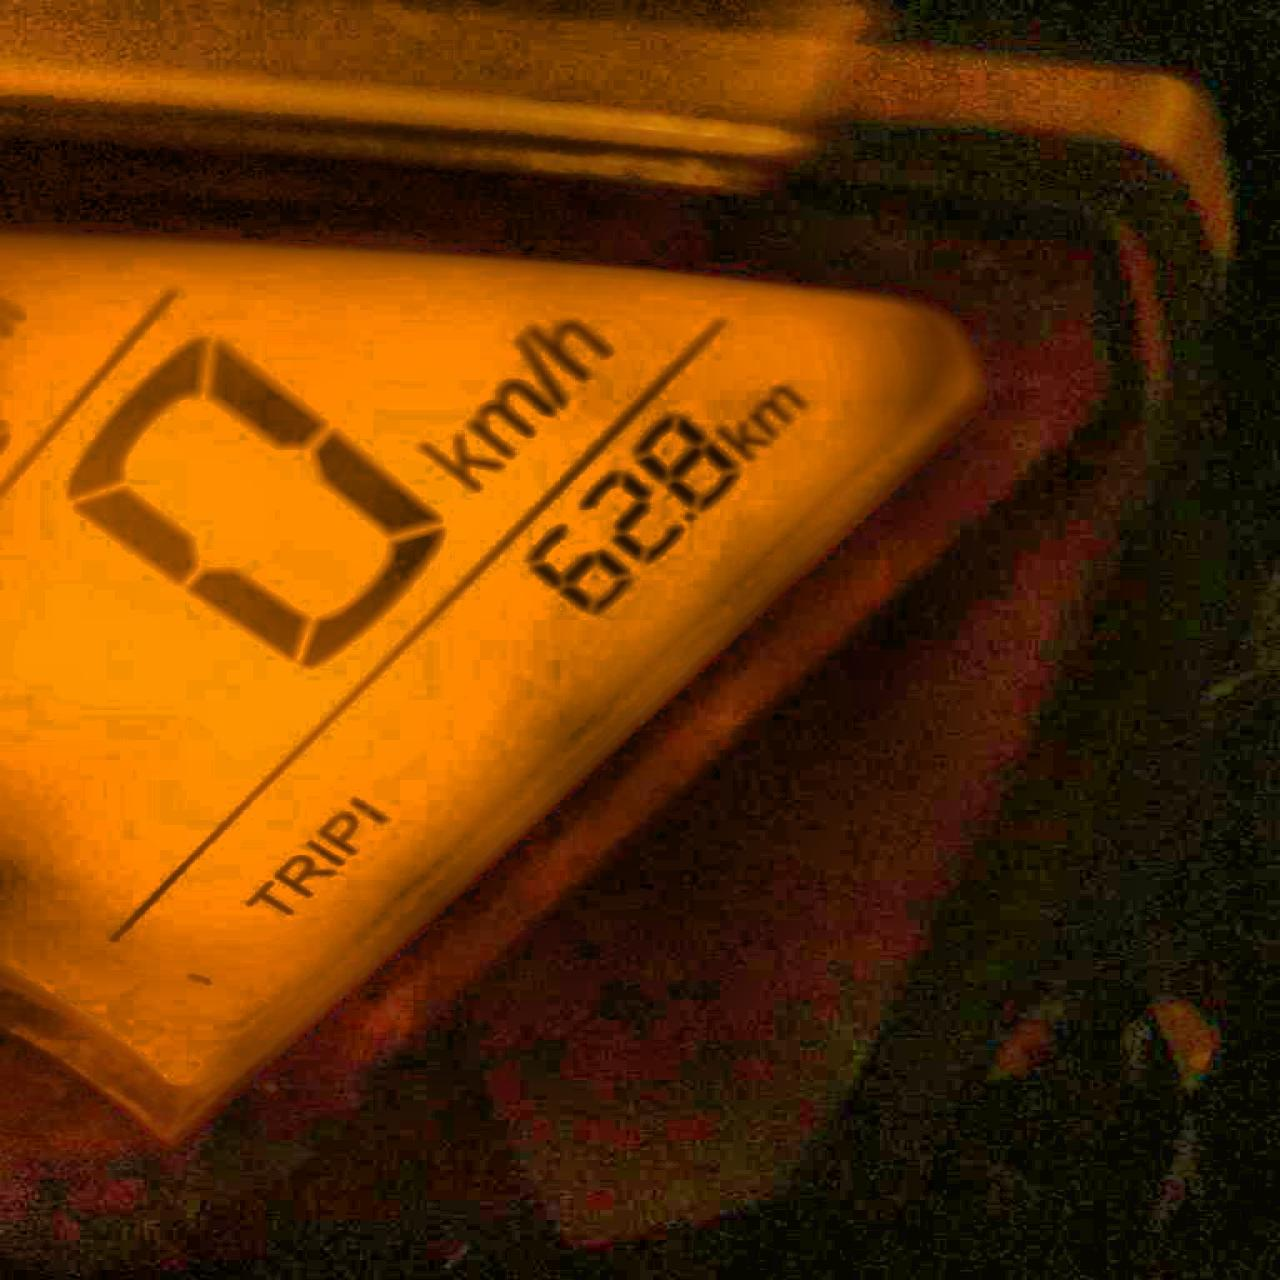-: (676, 508, 696, 525)
0: (54, 334, 443, 670)
1: (350, 795, 387, 825)
2: (577, 470, 676, 561)
6: (524, 524, 628, 614)
8: (635, 415, 734, 508)
X: (464, 380, 549, 458), (525, 318, 608, 377), (418, 431, 499, 491), (510, 334, 565, 408), (743, 381, 803, 437), (273, 855, 329, 896), (713, 420, 764, 459), (244, 880, 293, 918), (315, 811, 356, 855), (304, 838, 343, 867)
odometer: (5, 212, 1010, 1146)
